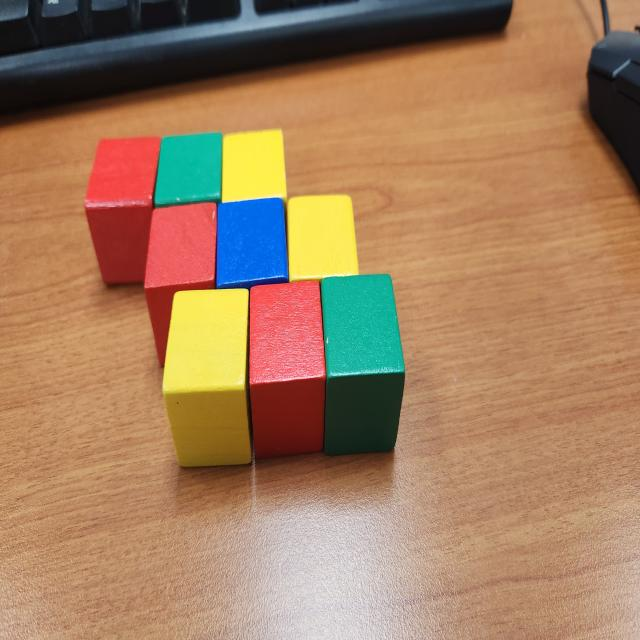blue: (213, 196, 290, 290)
green: (316, 273, 406, 456), (153, 131, 224, 206)
red: (244, 277, 328, 462), (144, 202, 218, 367), (84, 137, 162, 290)
yellow: (158, 286, 256, 477), (286, 194, 358, 280), (218, 130, 288, 202)
